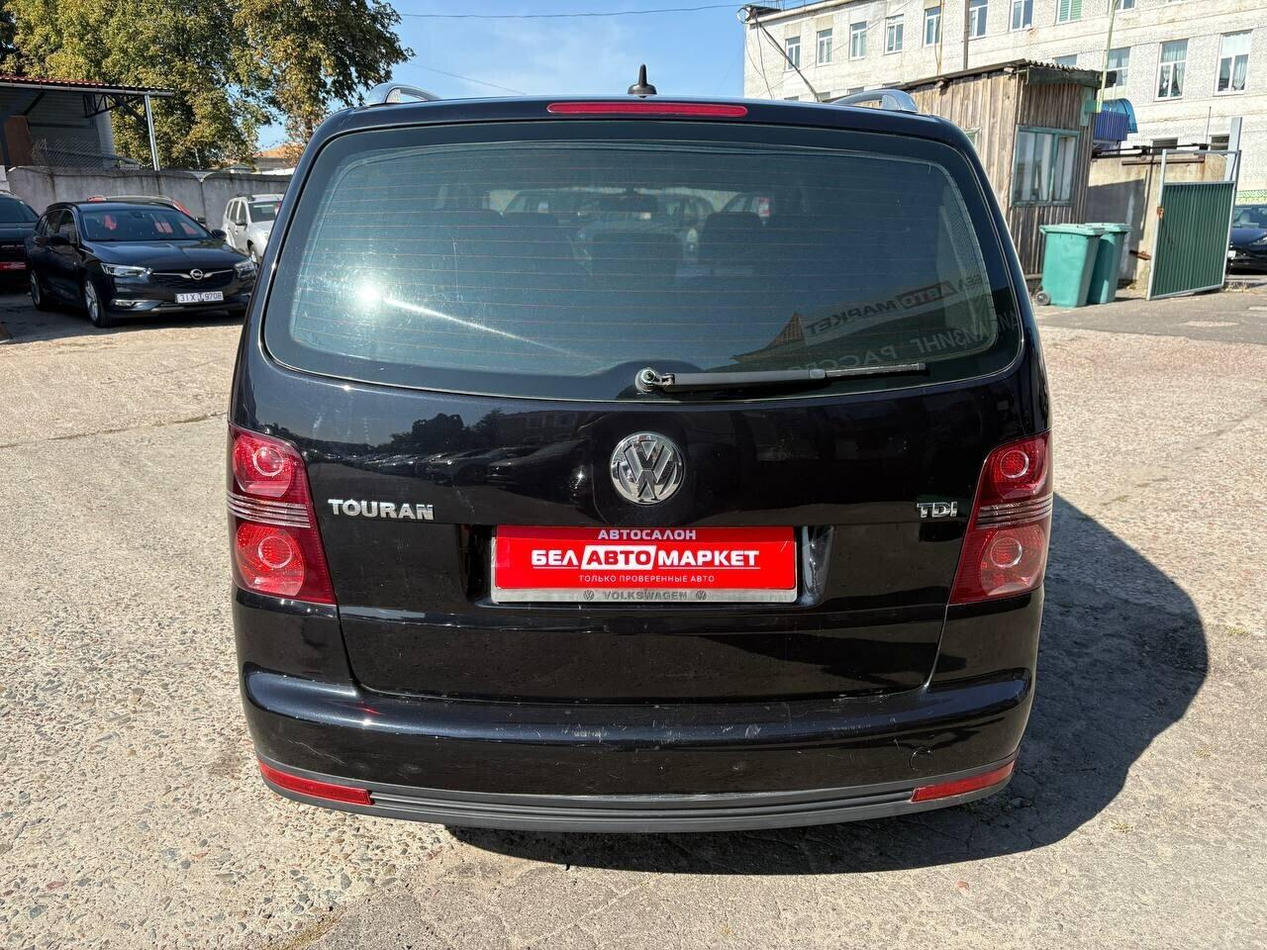Touran_2006-2010: (224, 94, 1055, 834)
